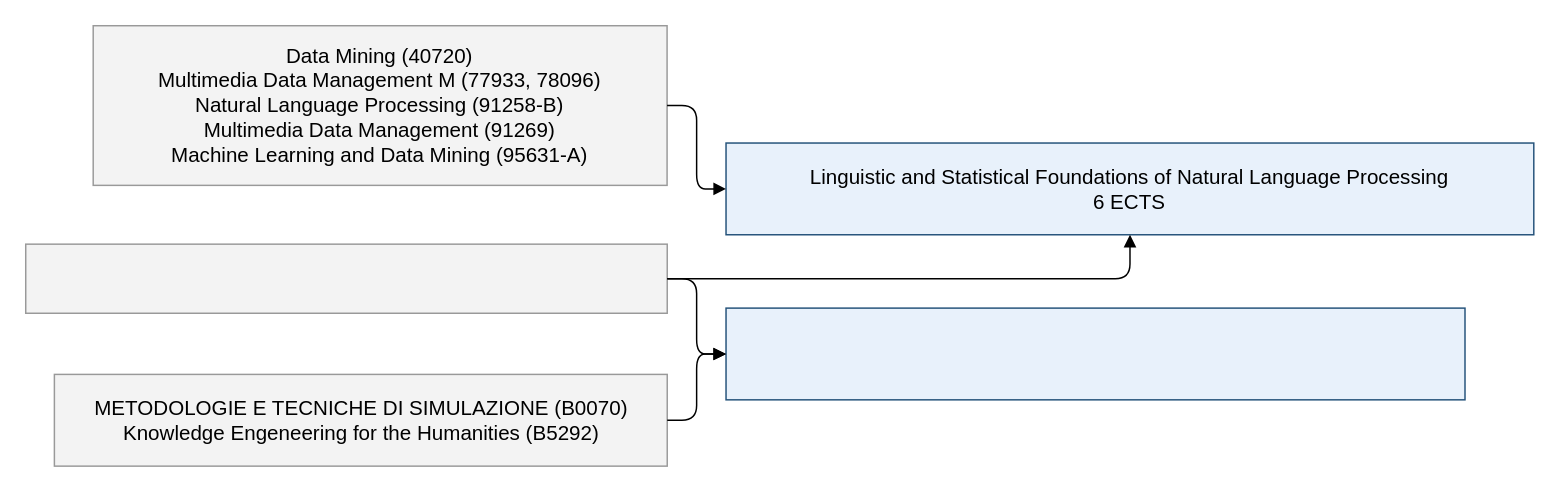
Some shapes in this 1560 by 492 pixel diagram are drawn without their labels. Each missing label, with the centre of its shape:
Contextual and Neural Methods in Natural Language Processing 3 ECTS: point (1095, 353)
Natural Language Processing (91258, 91258-A, B0385): point (345, 278)
